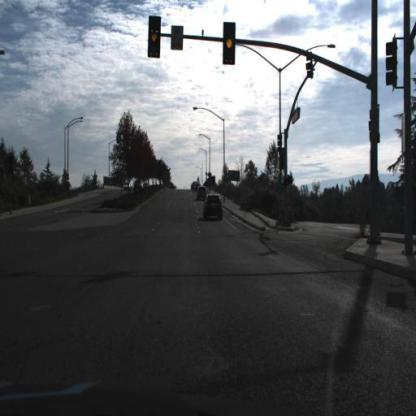car: (203, 193, 224, 219), (196, 184, 208, 200), (192, 182, 200, 192)
trafficLight-Yellow: (223, 23, 235, 63), (149, 17, 160, 57)
